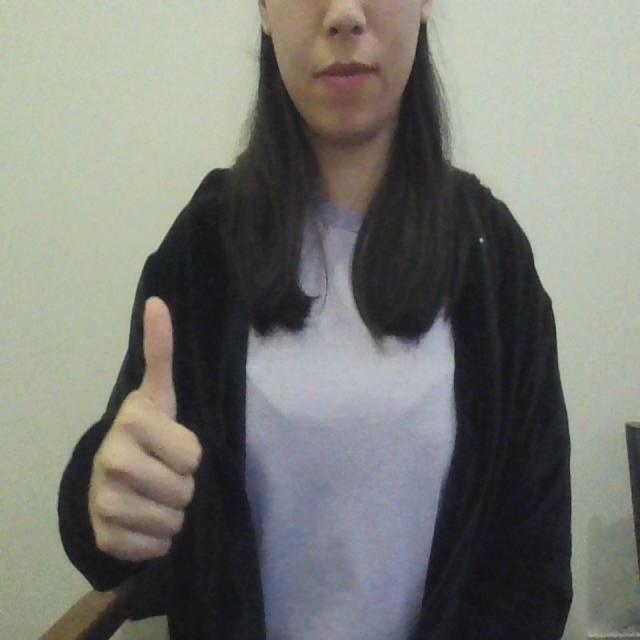Tamam: (74, 288, 206, 571)
